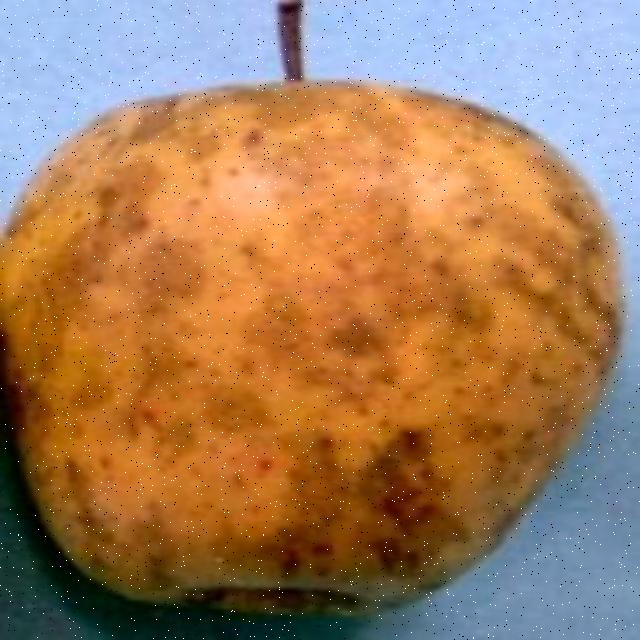BLOTCH: (6, 61, 620, 624)
